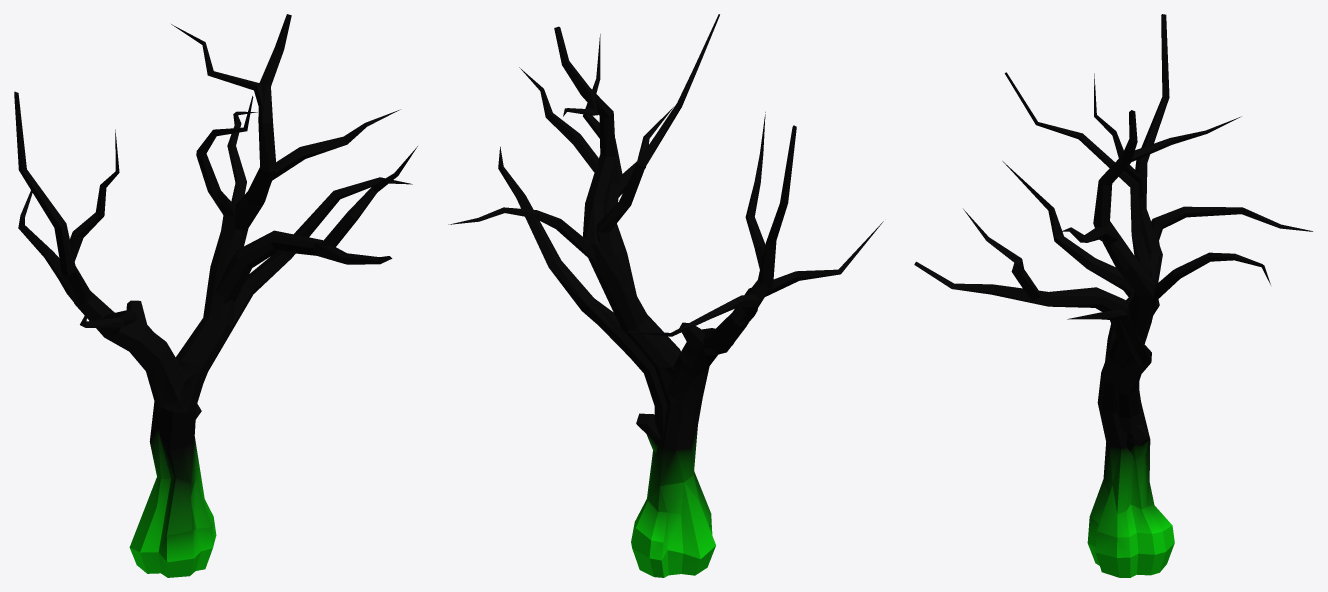
The model's file is SM_Collision_OakTreeLarge1.fbx.
3 renders of one model, left to right at view 1: azimuth 30°, elevation 25°; view 2: azimuth 150°, elevation 25°; view 3: azimuth 270°, elevation 25°, orthographic. The views are drawn at different scales.
Visible parts, largest first — view 1: Collision_OakTreeLarge1; view 2: Collision_OakTreeLarge1; view 3: Collision_OakTreeLarge1.
Part boxes in pixels (<box>): Collision_OakTreeLarge1: <box>14,14,417,577</box>; Collision_OakTreeLarge1: <box>448,14,883,577</box>; Collision_OakTreeLarge1: <box>914,14,1312,577</box>.
Bounding box in the file's own units: 1944 × 1913 × 2685.
